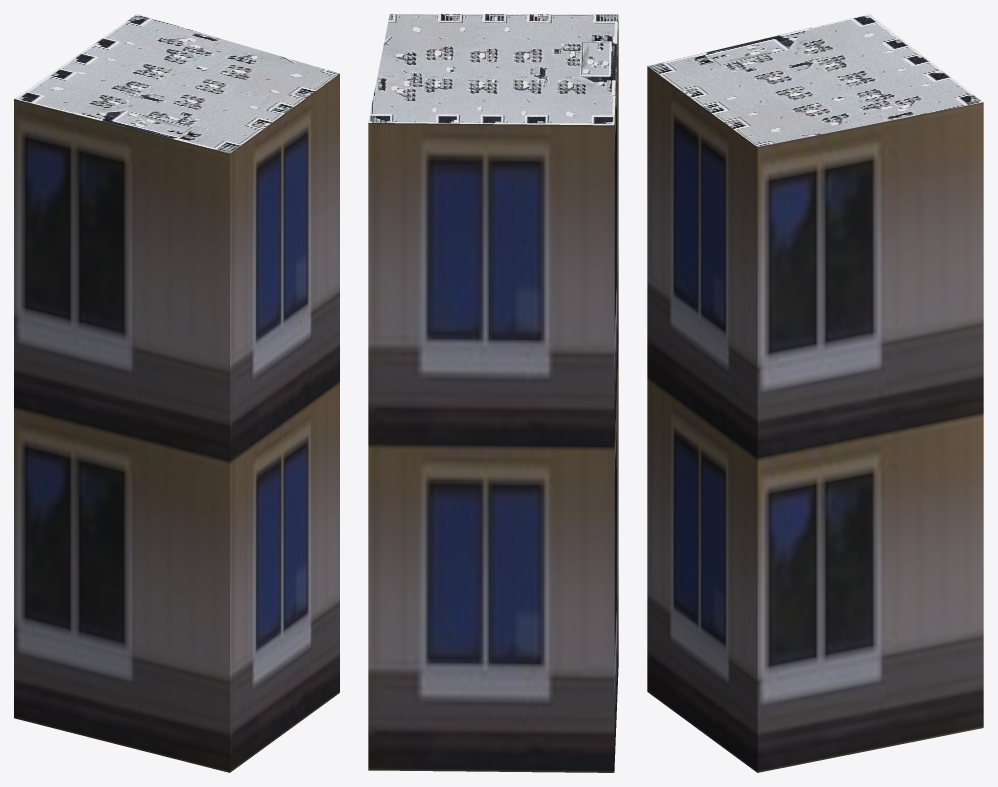
Rendered from ResTex__5304.fbx.
The picture shows the model from 3 angles, left to right: view 1: azimuth 30°, elevation 25°; view 2: azimuth 150°, elevation 25°; view 3: azimuth 270°, elevation 25°; orthographic projection. The views are drawn at different scales.
Parts seen in each view (by area): view 1: CityEngineMaterial_5_m, CityEngineMaterial_8_m; view 2: CityEngineMaterial_5_m, CityEngineMaterial_8_m; view 3: CityEngineMaterial_5_m, CityEngineMaterial_8_m.
Boxes of the visible parts, x1=… form: CityEngineMaterial_5_m: x1=14, y1=74, x2=339, y2=772; CityEngineMaterial_8_m: x1=14, y1=14, x2=339, y2=153; CityEngineMaterial_5_m: x1=368, y1=21, x2=618, y2=772; CityEngineMaterial_8_m: x1=368, y1=14, x2=618, y2=125; CityEngineMaterial_5_m: x1=647, y1=66, x2=983, y2=772; CityEngineMaterial_8_m: x1=647, y1=14, x2=982, y2=147.
Size of the model in its own units: 2.74 by 6 by 2.92.
2 materials, 2 textured.
